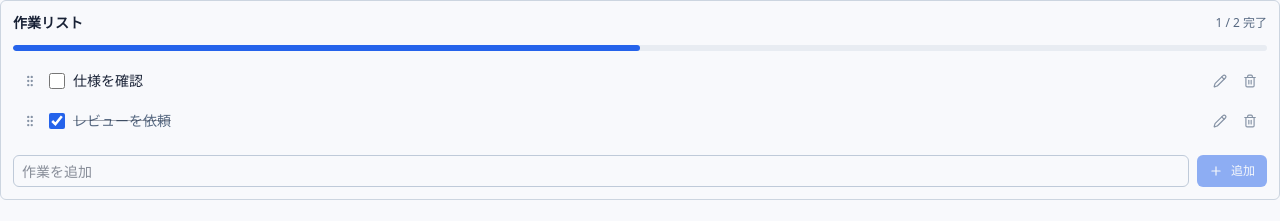
TaskWorkList › 完了状態の更新中はタイトルをクリックしても編集を開始しない
What coordinates should you click on to do the following:
click the checkbox named "「仕様を確認」を完了にする"
I would click on:
 (57, 81)
Its box is left=49, top=73, right=65, bottom=89.
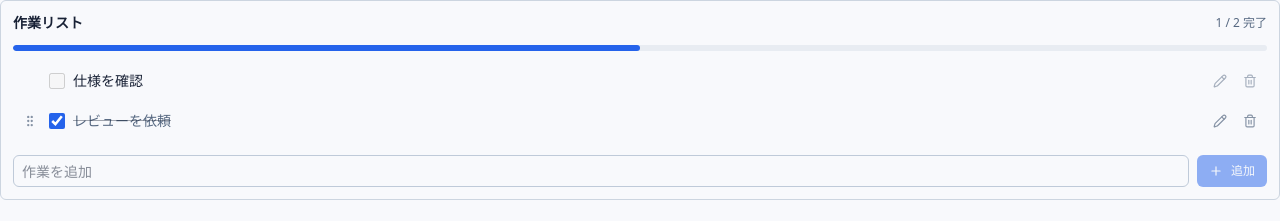
What coordinates should you click on to do the following:
click the button "仕様を確認"
I would click on:
 (108, 80)
Its box is left=73, top=71, right=1201, bottom=91.
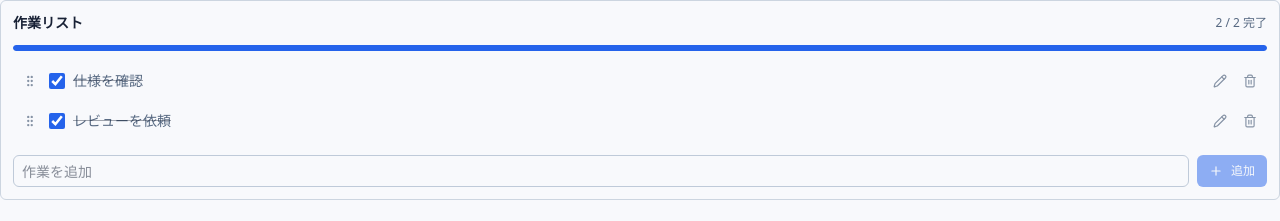
expect the field labelled "作業内容" is not shown: met
What coordinates should you click on to do the following:
click the button "仕様を確認"
I would click on:
 (108, 80)
Its box is left=73, top=71, right=1201, bottom=91.
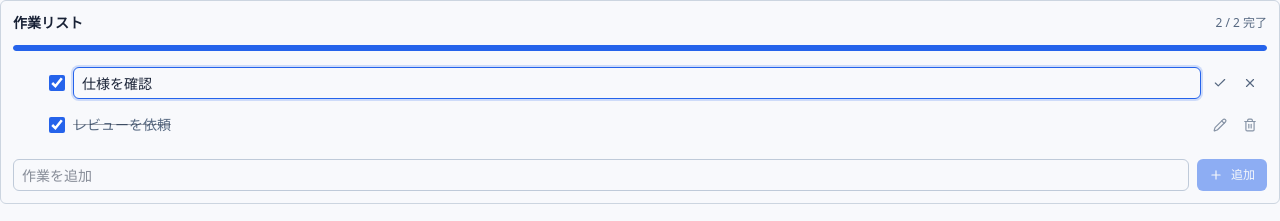
expect the field named "作業内容" holds "仕様を確認": met, box left=73, top=67, right=1201, bottom=99
